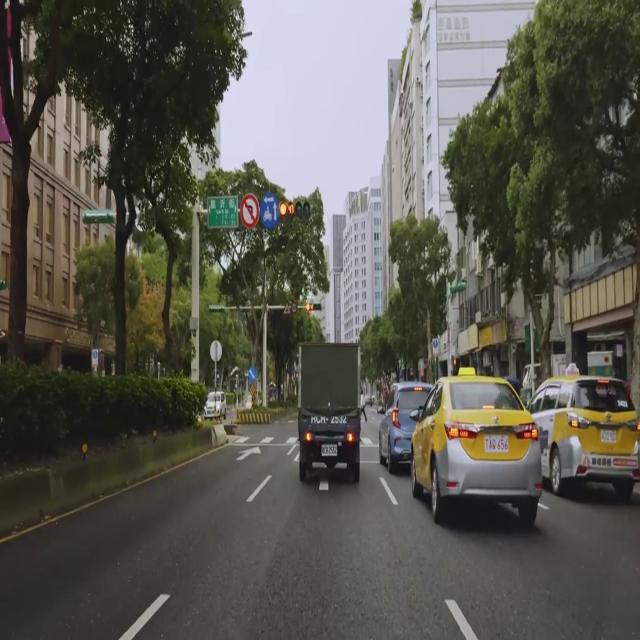red light: (276, 198, 312, 220), (305, 302, 321, 312)
